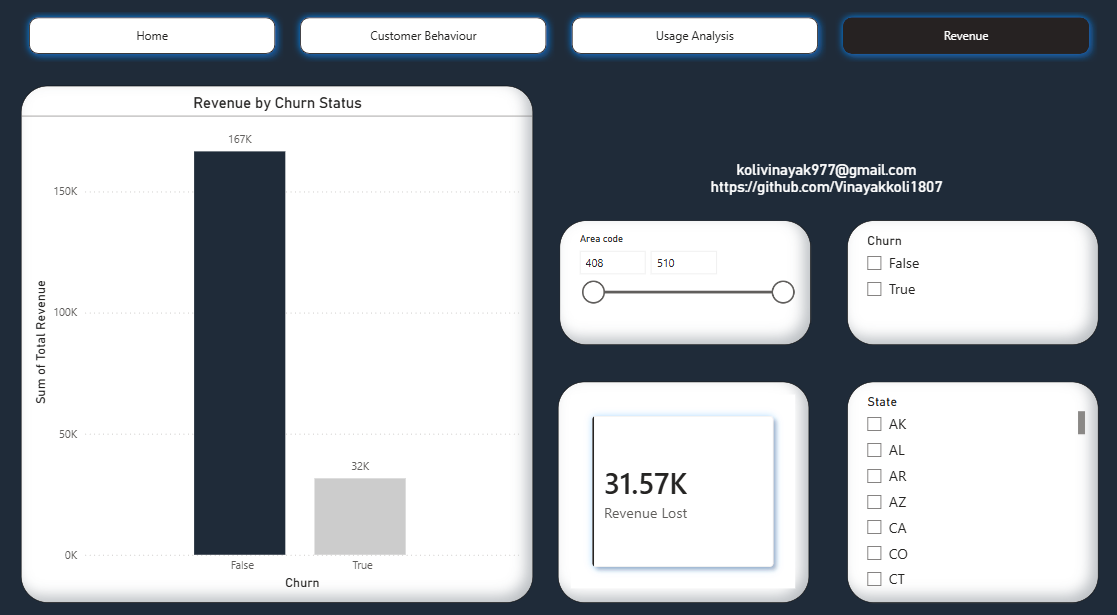

The page's visual inventory and layout, read from the dashboard file:
{"tool":"powerbi","page":{"name":"Revenue","canvas":[1280,720],"ordinal":3},"visuals":[{"type":"clusteredColumnChart","title":"Revenue by Churn Status","fields":{"Category":["Churn Prdiction Data 2.Churn"],"Y":["Sum(Churn Prdiction Data 2.Total Revenue)"]},"box":[39.1,111.8,573.7,579.3],"z":0},{"type":"slicer","fields":{"Values":["Churn Prdiction Data 2.Churn"]},"box":[964.9,262.6,281.3,139.7],"z":1},{"type":"slicer","fields":{"Values":["Churn Prdiction Data 2.State"]},"box":[964.9,443.3,281.3,247.7],"z":2},{"type":"slicer","fields":{"Values":["Churn Prdiction Data 2.Area code"]},"box":[642.6,262.6,281.3,139.7],"z":3},{"type":"cardVisual","fields":{"Data":["Churn Prdiction Data 2.Revenue Lost"]},"box":[640.8,443.3,281.3,247.7],"z":4},{"type":"textbox","title":"kolivinayak977@gmail.com     https://github.com/Vinayakkoli1807","box":[800.9,195.6,281.3,48.4],"z":5},{"type":"pageNavigator","box":[39.1,26.1,1207,59.6],"z":6}]}

Visuals, with their boxes in screenshot pixels (x1, y1, x2, y2), scaled from the page's 1280x720 canvas onto the 1117x615 screenshot:
"Revenue by Churn Status" clusteredColumnChart: <bbox>34, 95, 535, 590</bbox>
slicer - Churn Prdiction Data 2.Churn: <bbox>842, 224, 1088, 344</bbox>
slicer - Churn Prdiction Data 2.State: <bbox>842, 379, 1088, 590</bbox>
slicer - Churn Prdiction Data 2.Area code: <bbox>561, 224, 806, 344</bbox>
cardVisual - Churn Prdiction Data 2.Revenue Lost: <bbox>559, 379, 805, 590</bbox>
"kolivinayak977@gmail.com     https://github.com/Vinayakkoli1807" textbox: <bbox>699, 167, 944, 208</bbox>
pageNavigator: <bbox>34, 22, 1087, 73</bbox>
